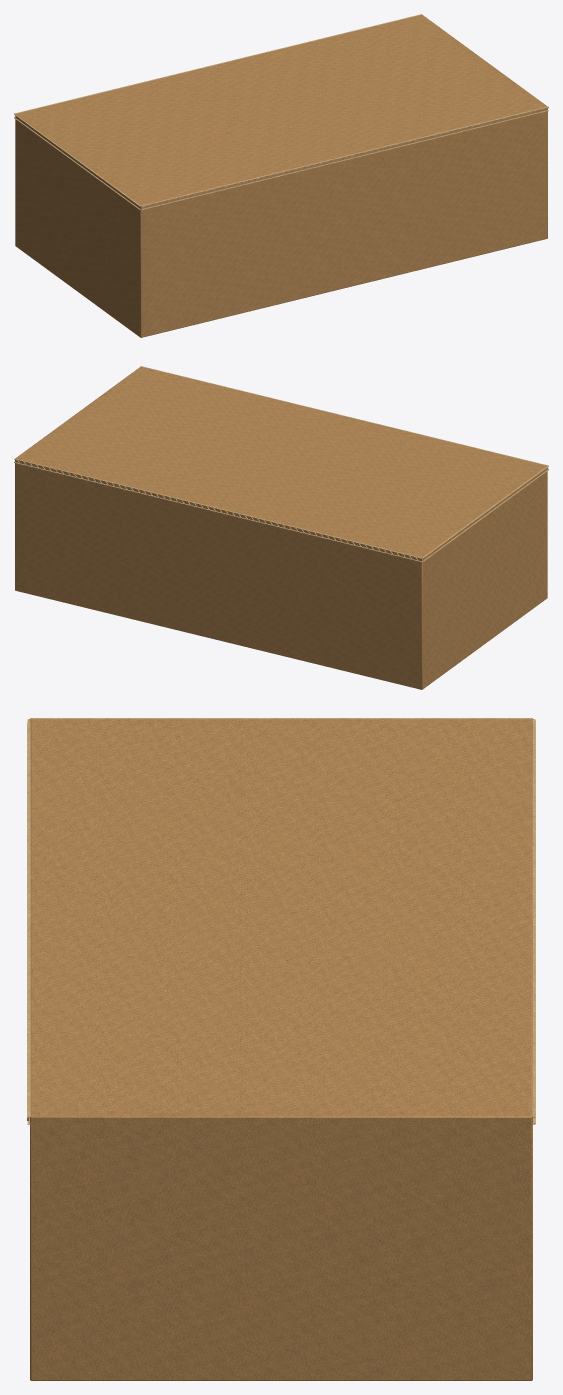
File: 1-cardboard-box-1.fbx
The picture shows the model from 3 angles, top to bottom: view 1: azimuth 30°, elevation 25°; view 2: azimuth 150°, elevation 25°; view 3: azimuth 270°, elevation 25°; orthographic projection. The views are drawn at different scales.
Parts seen in each view (by area): view 1: cardboard-box-1; view 2: cardboard-box-1; view 3: cardboard-box-1.
Part boxes in pixels (left/top/right/bottom): cardboard-box-1: left=14, top=14, right=548, bottom=337; cardboard-box-1: left=14, top=366, right=548, bottom=689; cardboard-box-1: left=27, top=718, right=535, bottom=1380.
Bounding box in the file's own units: 11631 × 3600 × 6272.
Materials: 1 (1 with a texture image).
